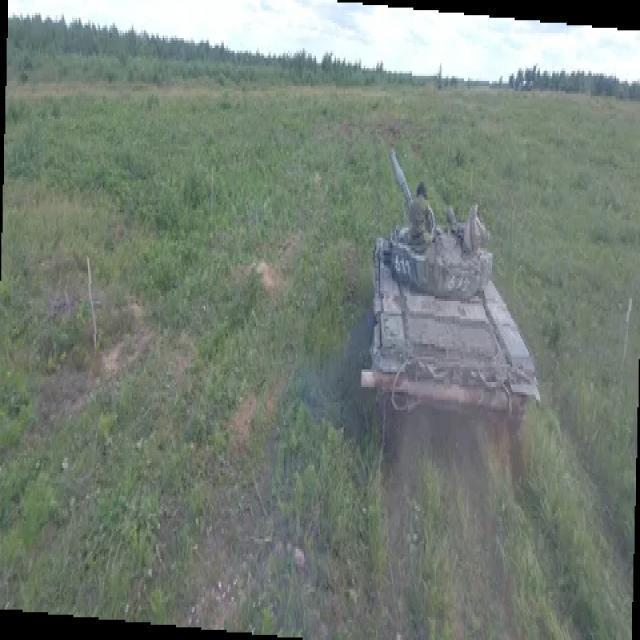Tanks: (360, 146, 540, 437)
